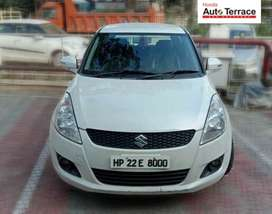HP22E8000: (111, 156, 170, 169)
